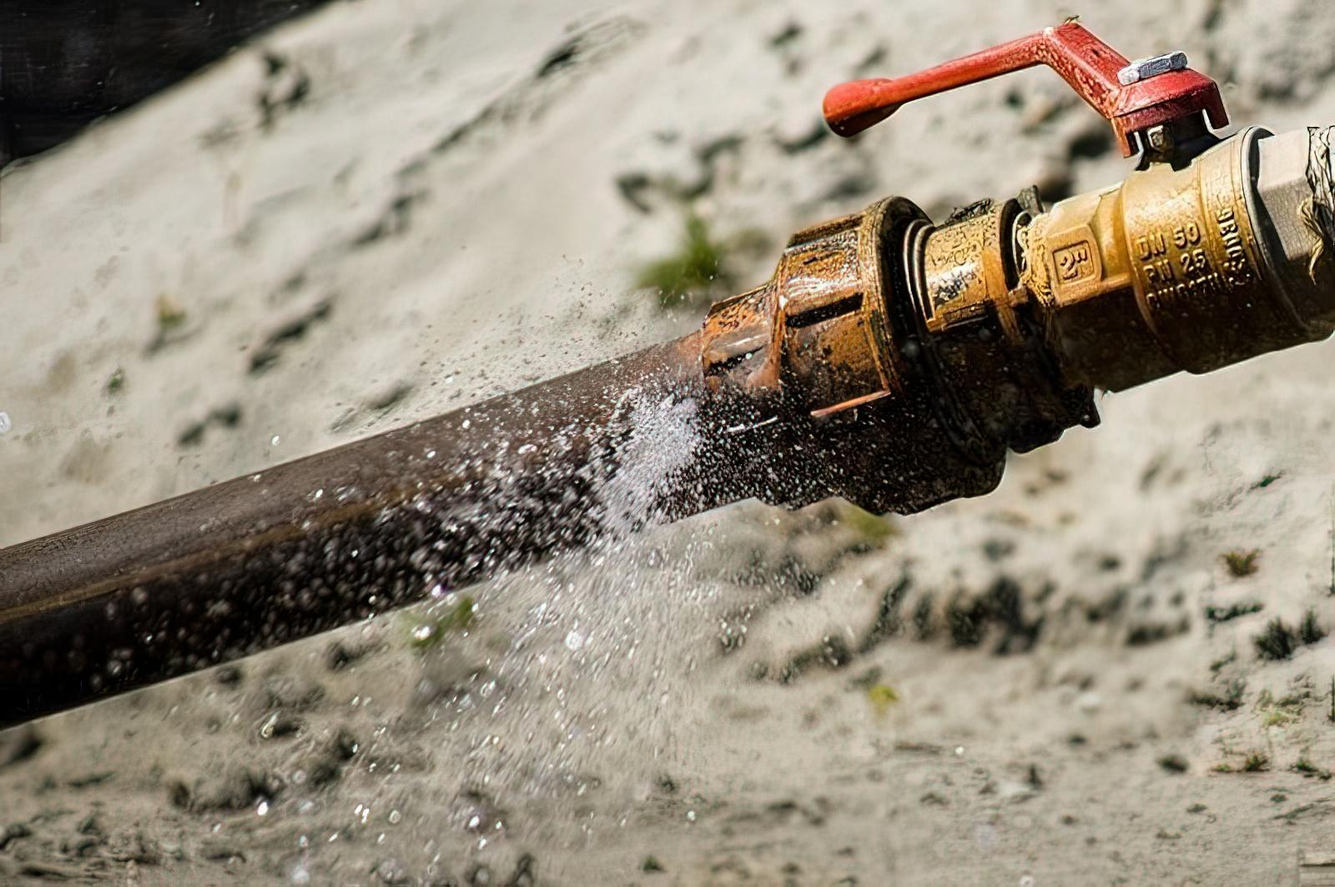pipe burst: (407, 375, 728, 805)
